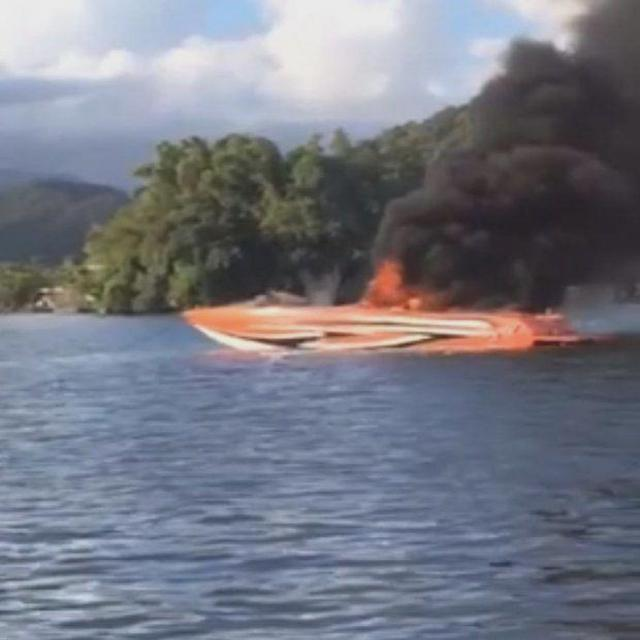Fire: (358, 257, 428, 316)
